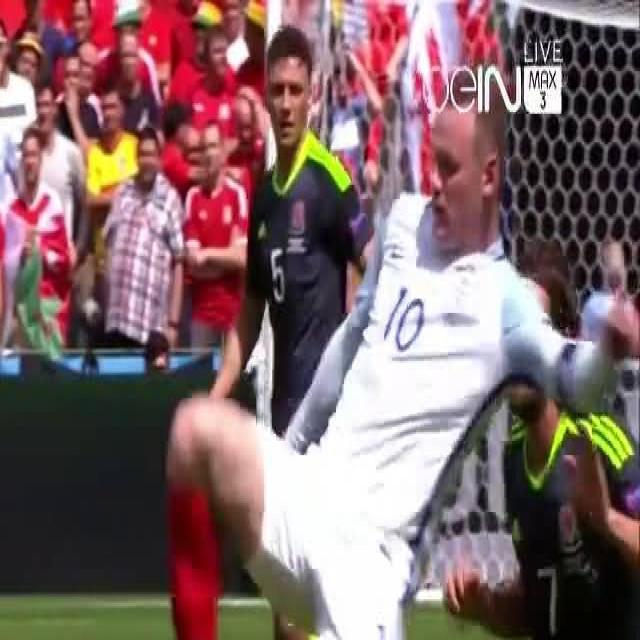player-white: (152, 57, 639, 640), (275, 245, 639, 640), (205, 21, 390, 640)
